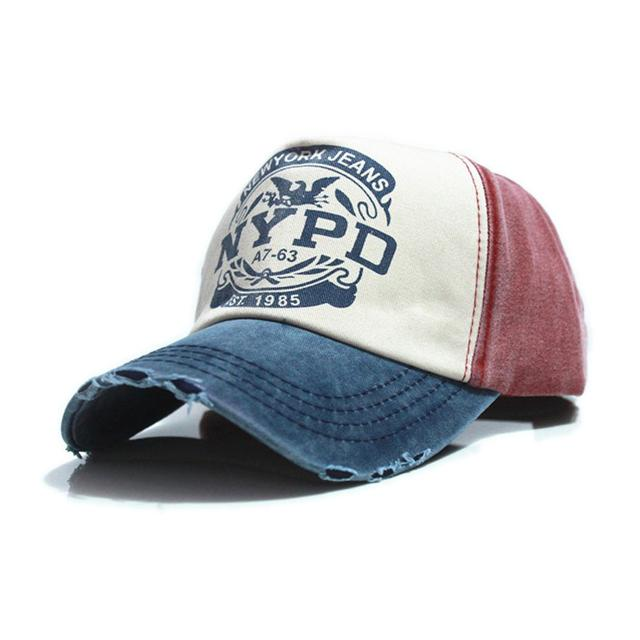no_helmet: (56, 120, 599, 495)
